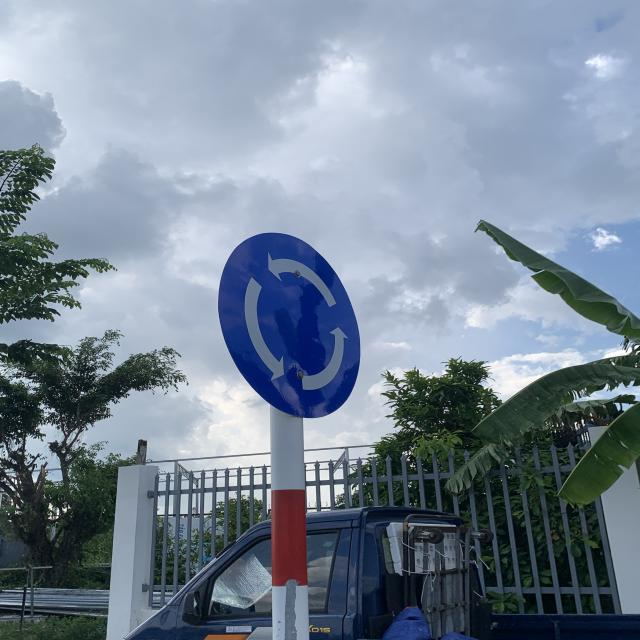Xe_Bus: (218, 232, 362, 418)
